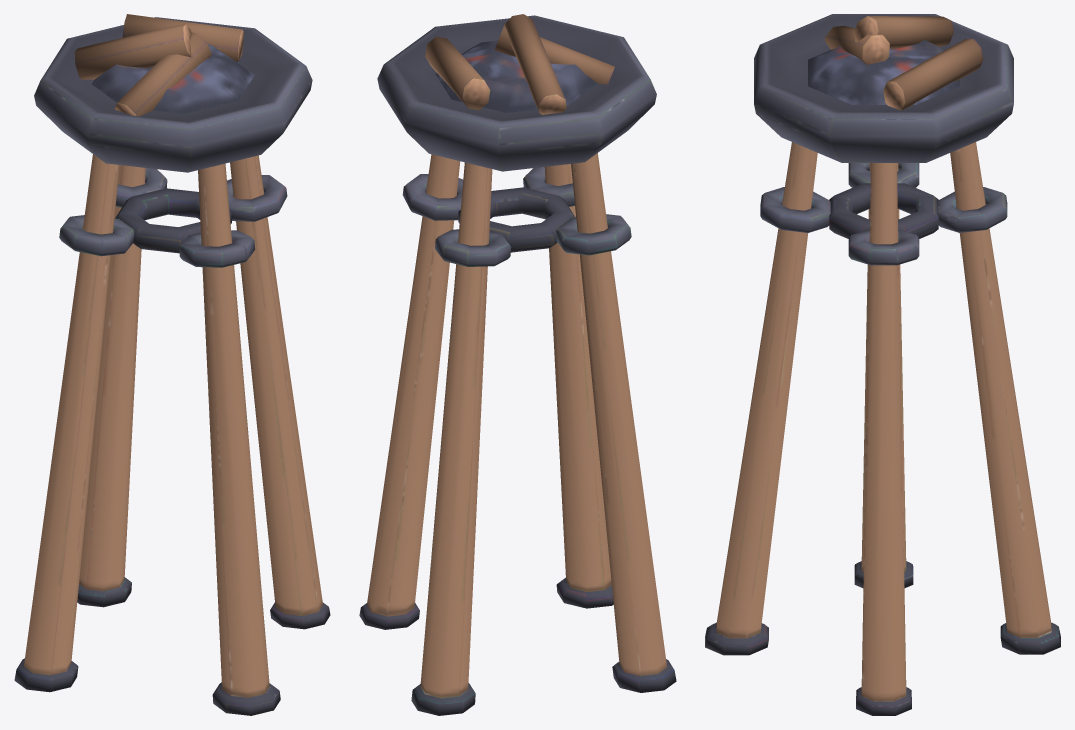
File: PedestalCinzas2.fbx
3 renders of one model, left to right at view 1: azimuth 30°, elevation 25°; view 2: azimuth 150°, elevation 25°; view 3: azimuth 270°, elevation 25°, orthographic.
Parts seen in each view (by area): view 1: Pedestal de cinzas.003; view 2: Pedestal de cinzas.003; view 3: Pedestal de cinzas.003.
Boxes of the visible parts, bbox=[...] form: Pedestal de cinzas.003: bbox=[14, 14, 330, 715]; Pedestal de cinzas.003: bbox=[359, 14, 676, 715]; Pedestal de cinzas.003: bbox=[705, 14, 1060, 715].
Bounding box in the file's own units: 58.66 × 115 × 59.33.
1 material, 1 textured.
